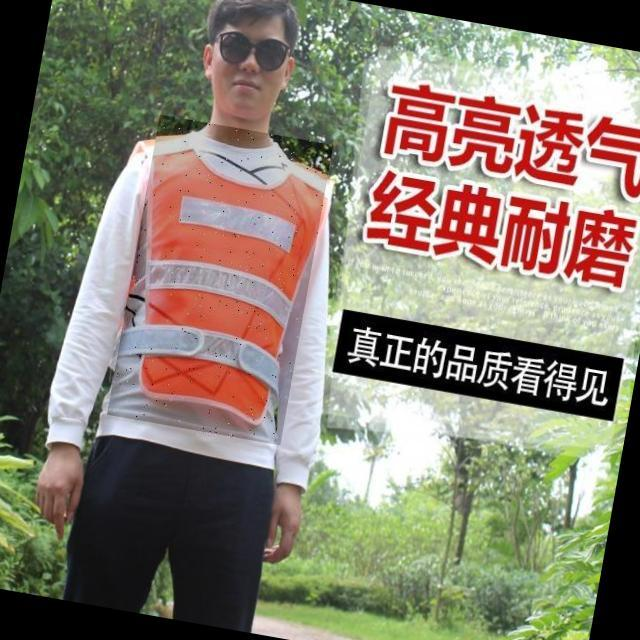Person: (29, 0, 352, 640)
Safety Vest: (106, 115, 333, 447)
bare-arms: (251, 466, 310, 575), (33, 446, 96, 528)
no-helmet: (180, 0, 307, 49)
